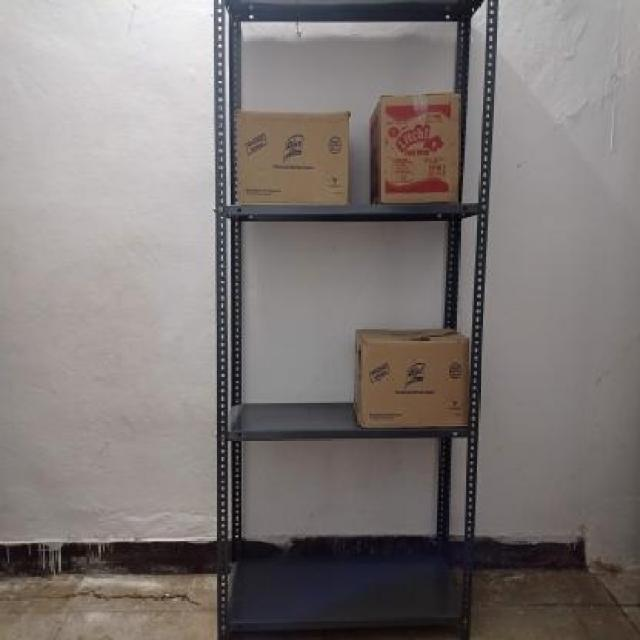box: (234, 109, 350, 205), (380, 90, 462, 206), (358, 340, 468, 426)
